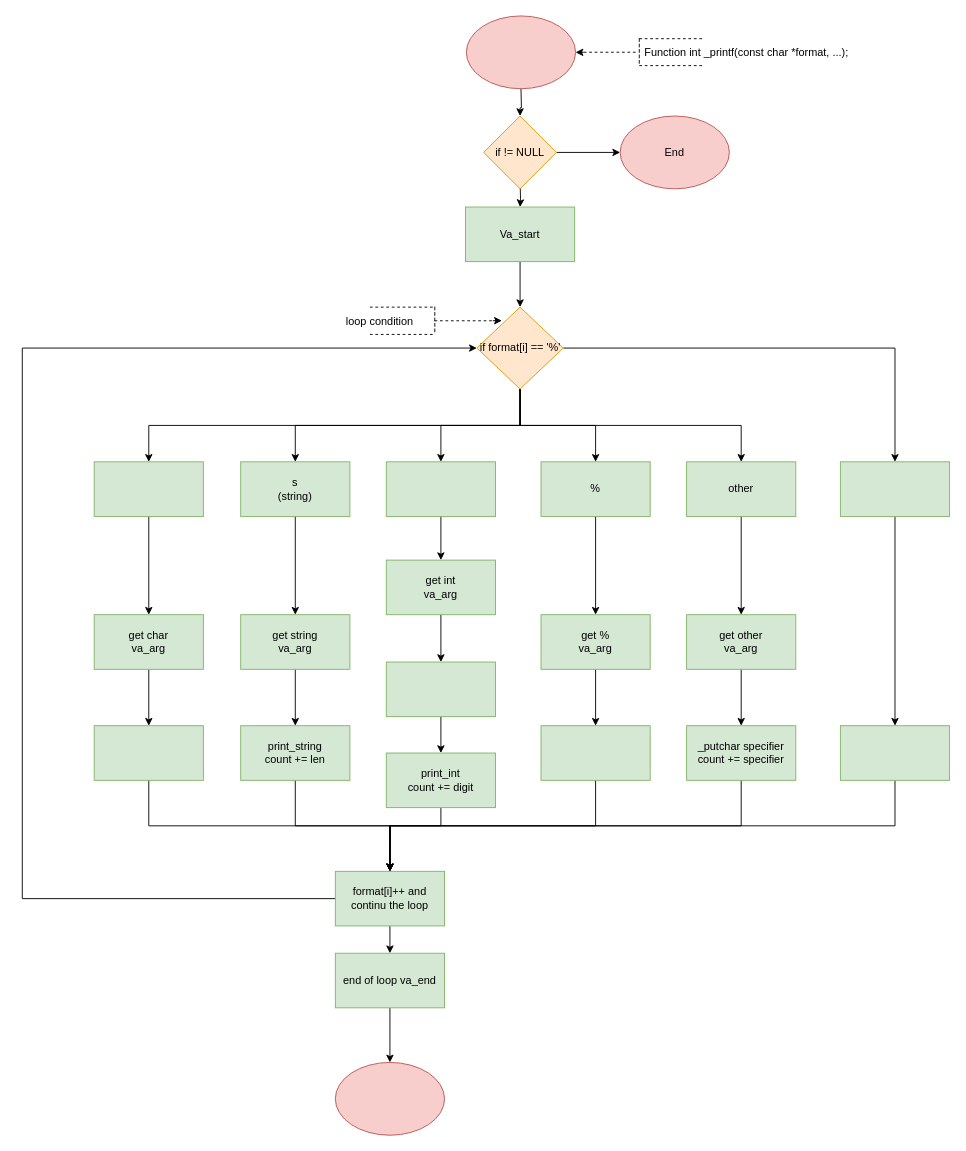
Some shapes in this 966 by 1151 pixel diagram are drawn without their labels. Each missing label, with the centre of its shape:
"_putchar % count += %" belongs at (x=595, y=752).
"_putchar normal count++" belongs at (x=894, y=752).
"c (char)" belongs at (x=148, y=488).
"convert int en string" belongs at (x=440, y=689).
"d/i (int)" belongs at (x=440, y=488).
"print normal characters" belongs at (x=894, y=488).
"print_char count++" belongs at (x=148, y=752).
"Return tous les prints" belongs at (x=389, y=1098).
"Start" belongs at (x=520, y=52).
